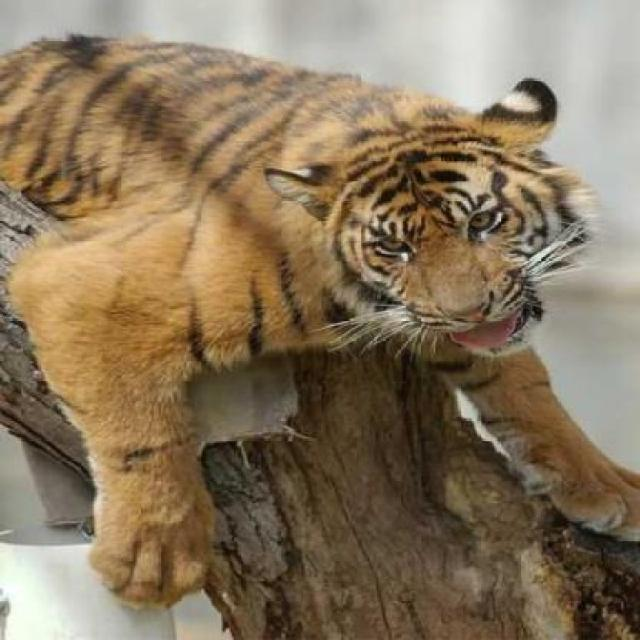tiger: (0, 30, 639, 612)
